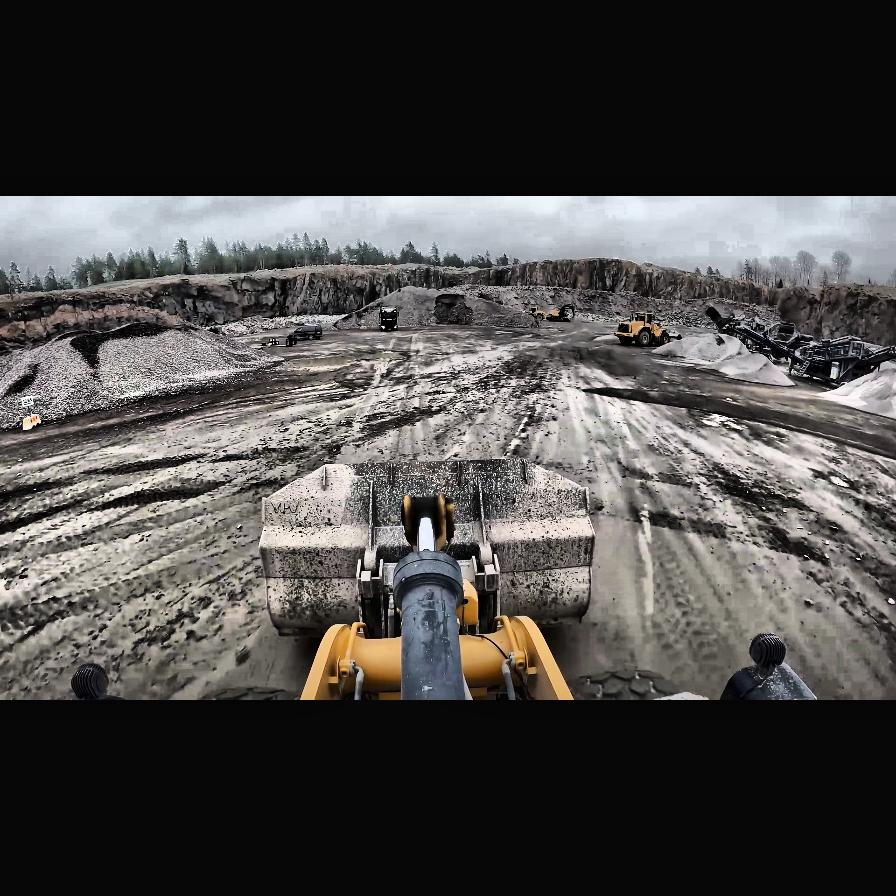anchor: (403, 494, 453, 550)
pile of gravel: (3, 320, 286, 432), (439, 284, 783, 324), (644, 332, 796, 388), (348, 284, 508, 330), (816, 369, 896, 423), (216, 312, 336, 338)
